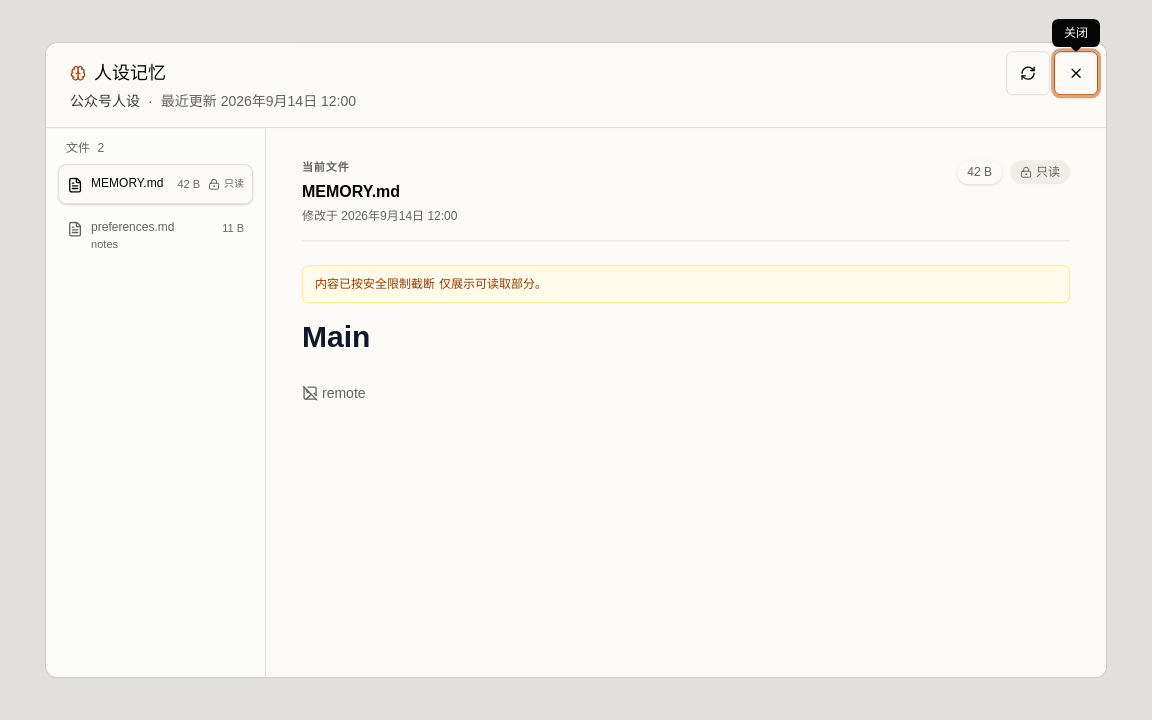
ProjectMemoryDialog › loads only when opened, prioritizes MEMORY.md, switches files, and blocks images
Check: the heading "Main" is shown, box [302,320,370,353]
Check: the text "内容已按安全限制截断" is shown, box [315,277,435,291]
Click the button with aria-label "notes/preferences.md".
click(156, 236)  # box [58,208,253,264]
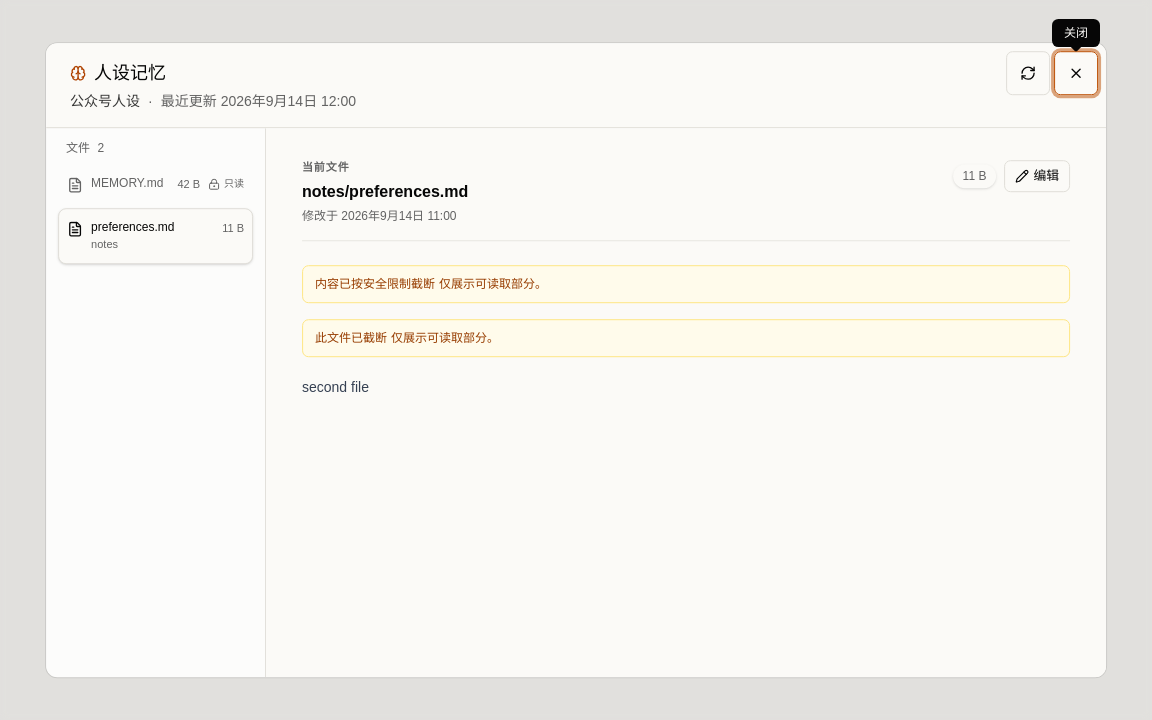
Check: the text "second file" is shown, box [302,379,369,395]
Check: the text "此文件已截断" is shown, box [315,331,387,345]
Check: the heading "notes/preferences.md" is shown, box [302,183,468,200]
